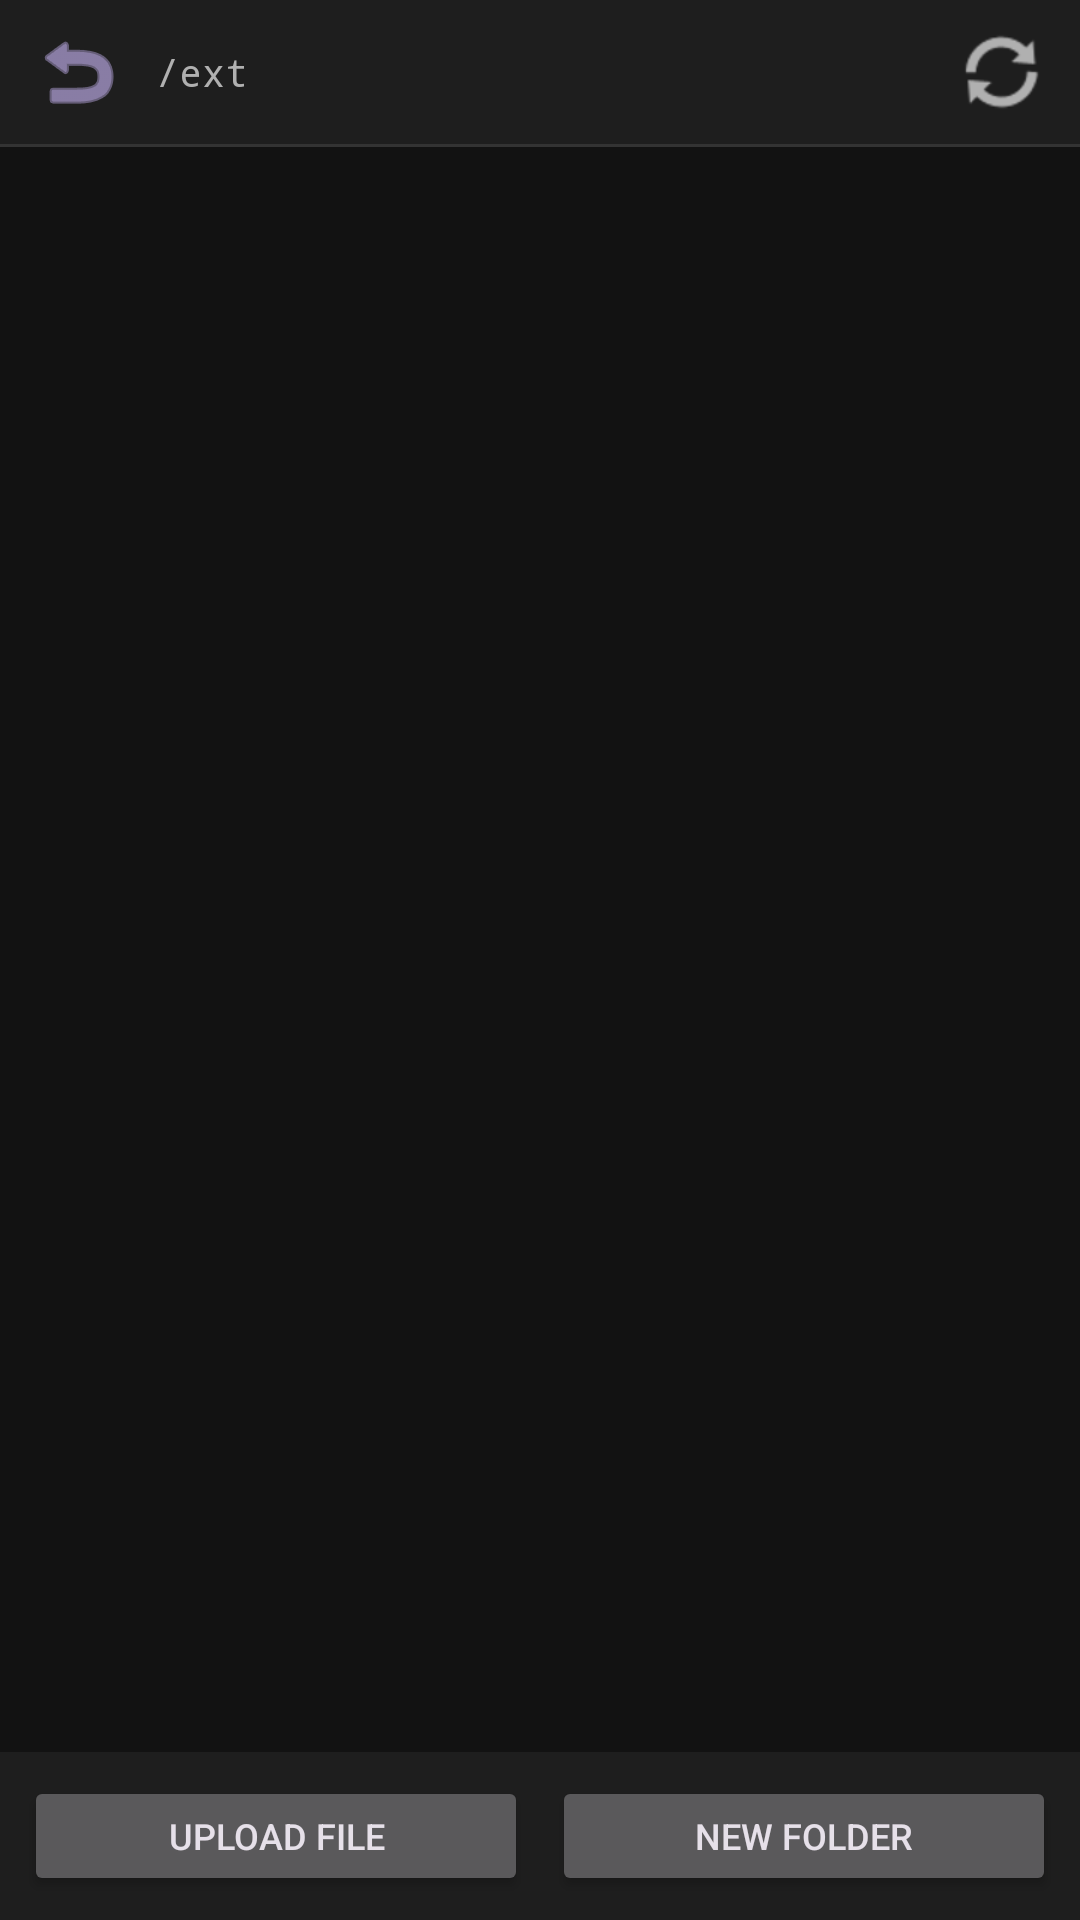

Named icons in this screenshot (1080×1920) and their centers, point (x, y):
Go up: point (79, 72)
Refresh: point (1001, 72)
